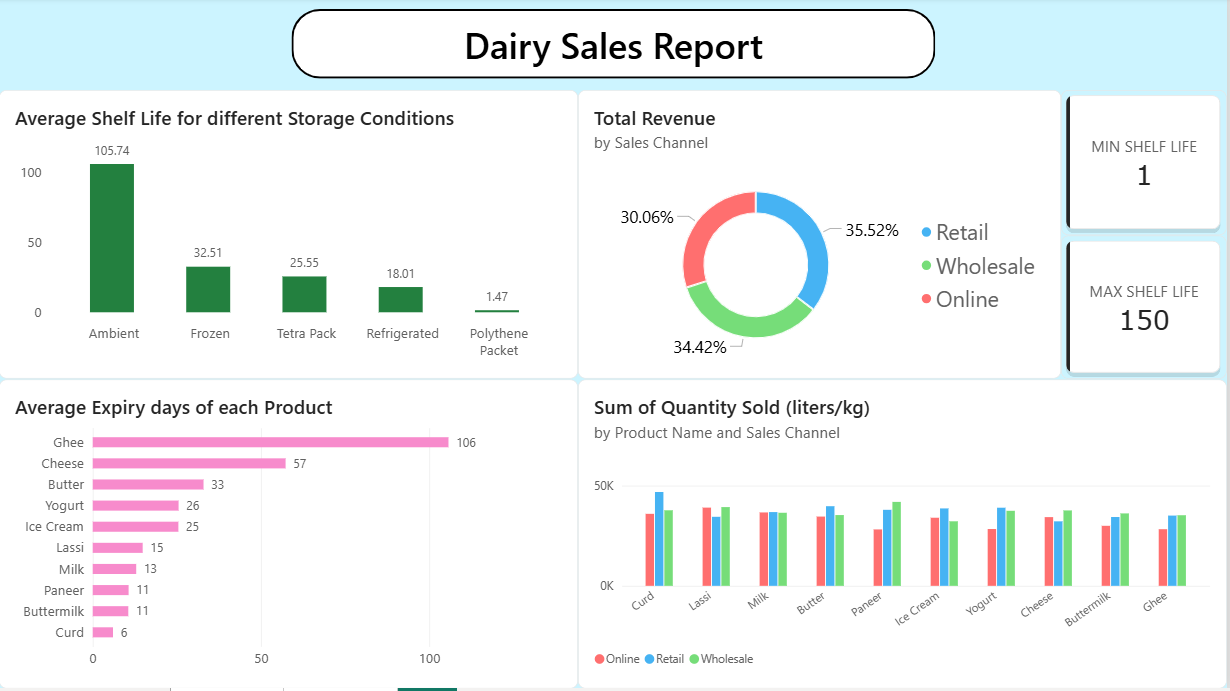

This screenshot's page, from the dashboard's own definition file:
{"tool":"powerbi","page":{"name":"Page 1","canvas":[1280,720],"ordinal":0},"visuals":[{"type":"clusteredBarChart","title":"Average Expiry days of each Product","fields":{"Category":["dairy_dataset.Product Name"],"Y":["dairy_dataset.avg_expiry_days"]},"box":[0,398,603.6,322.3],"z":0},{"type":"cardVisual","fields":{"Data":["dairy_dataset.max_shelflife"]},"box":[1106.8,248.3,172.7,149.7],"z":1000},{"type":"cardVisual","fields":{"Data":["dairy_dataset.Min Shelf Life"]},"box":[1106.8,97,172.7,151.3],"z":2000},{"type":"clusteredColumnChart","title":"Average Shelf  Life for different Storage Conditions","fields":{"Category":["dairy_dataset.Storage Condition"],"Y":["Avg(dairy_dataset.Shelf Life (days))"]},"box":[0,97,603.6,301],"z":3000},{"type":"donutChart","fields":{"Category":["dairy_dataset.Sales Channel"],"Y":["dairy_dataset.Total Revenue"]},"box":[603.6,97,503.2,301],"z":3001},{"type":"clusteredColumnChart","fields":{"Category":["dairy_dataset.Product Name"],"Series":["dairy_dataset.Sales Channel"],"Y":["Sum(dairy_dataset.Quantity Sold (liters/kg))"]},"box":[603.6,398,675.9,322.3],"z":3002},{"type":"shape","box":[304.2,13.2,671,72.4],"z":3003},{"type":"textbox","box":[100,100,300,300],"z":3004},{"type":"textbox","box":[339.3,25,602.4,72.6],"z":3005}]}

Visuals, with their boxes in screenshot pixels (x1, y1, x2, y2), scaled from the page's 1280x720 canvas onto the 1230x691 screenshot:
"Average Expiry days of each Product" clusteredBarChart: bbox=[0, 382, 580, 690]
cardVisual - dairy_dataset.max_shelflife: bbox=[1064, 238, 1229, 382]
cardVisual - dairy_dataset.Min Shelf Life: bbox=[1064, 93, 1229, 238]
"Average Shelf  Life for different Storage Conditions" clusteredColumnChart: bbox=[0, 93, 580, 382]
donutChart - dairy_dataset.Sales Channel x dairy_dataset.Total Revenue: bbox=[580, 93, 1064, 382]
clusteredColumnChart - dairy_dataset.Product Name x dairy_dataset.Sales Channel: bbox=[580, 382, 1229, 690]
shape: bbox=[292, 13, 937, 82]
textbox: bbox=[96, 96, 384, 384]
textbox: bbox=[326, 24, 905, 94]
